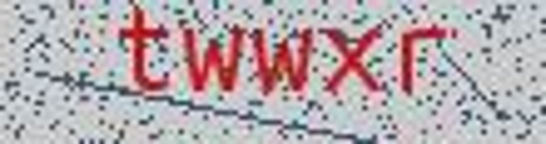r: (392, 13, 465, 117)
t: (109, 1, 180, 113)
w: (178, 12, 245, 119), (244, 18, 318, 109)
x: (316, 15, 392, 112)
